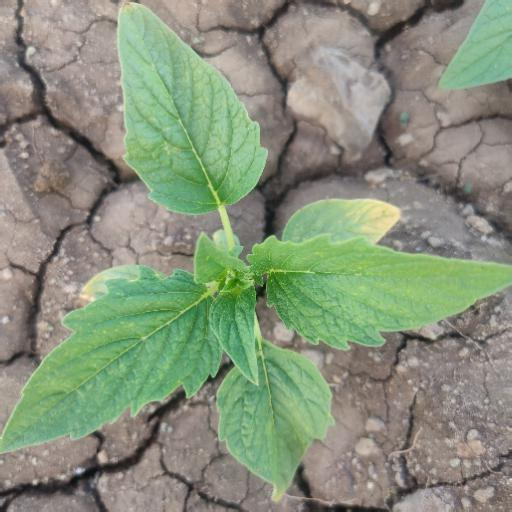crop: (1, 1, 512, 487)
